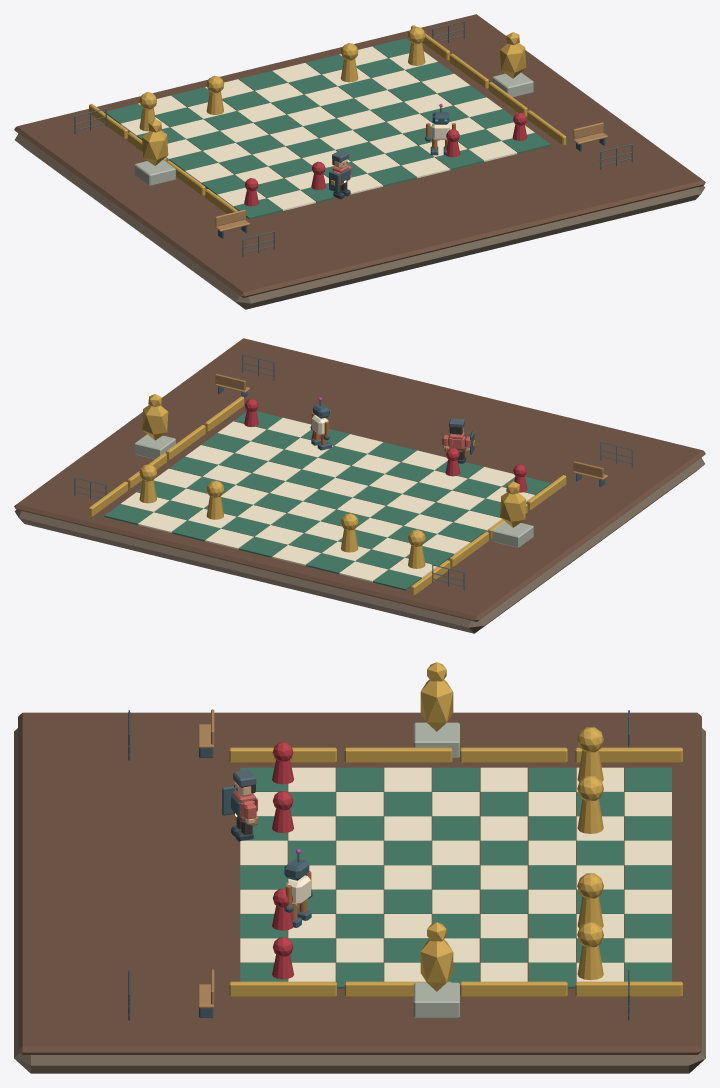
Rendered from world-boardgame.glb.
The picture shows the model from 3 angles, top to bottom: view 1: azimuth 30°, elevation 25°; view 2: azimuth 150°, elevation 25°; view 3: azimuth 270°, elevation 25°; orthographic projection. The views are drawn at different scales.
Visible parts, largest first — view 1: terrain-top, terrain-stratum, plinth.001, sculpture.002, sculpture.001, plinth.002, board-square.036, board-square.045, board-square.063, board-square.009, board-square.003, board-square.004 (+58 smaller); view 2: terrain-top, terrain-stratum, plinth.001, sculpture.001, sculpture.002, plinth.002, board-square.008, board-square.017, board-square.026, board-square.044, board-square.080, board-square.035 (+62 smaller); view 3: terrain-top, terrain-stratum, board-rim.002, board-rim.001, board-rim.004, board-rim.005, board-rim.007, plinth.002, board-rim, board-rim.006, sculpture.001, sculpture.002 (+79 smaller).
Boxes of the visible parts, x1=… form: terrain-top: x1=14, y1=14, x2=705, y2=297; terrain-stratum: x1=15, y1=133, x2=705, y2=309; plinth.001: x1=134, y1=160, x2=175, y2=185; sculpture.002: x1=500, y1=43, x2=526, y2=78; sculpture.001: x1=142, y1=130, x2=168, y2=165; plinth.002: x1=492, y1=72, x2=533, y2=97; board-square.036: x1=368, y1=165, x2=416, y2=186; board-square.045: x1=401, y1=157, x2=450, y2=178; board-square.063: x1=468, y1=141, x2=517, y2=161; board-square.009: x1=267, y1=190, x2=315, y2=210; board-square.003: x1=185, y1=163, x2=233, y2=183; board-square.004: x1=169, y1=151, x2=217, y2=171; terrain-top: x1=14, y1=338, x2=705, y2=621; terrain-stratum: x1=14, y1=457, x2=704, y2=633; plinth.001: x1=492, y1=521, x2=533, y2=547; sculpture.001: x1=500, y1=492, x2=526, y2=527; sculpture.002: x1=142, y1=405, x2=168, y2=440; plinth.002: x1=134, y1=434, x2=175, y2=459; board-square.008: x1=373, y1=569, x2=421, y2=590; board-square.017: x1=339, y1=561, x2=388, y2=582; board-square.026: x1=305, y1=553, x2=354, y2=574; board-square.044: x1=238, y1=537, x2=287, y2=557; board-square.080: x1=104, y1=504, x2=153, y2=524; board-square.035: x1=272, y1=545, x2=320, y2=565; terrain-top: x1=18, y1=712, x2=701, y2=1054; terrain-stratum: x1=14, y1=728, x2=705, y2=1073; board-rim.002: x1=344, y1=747, x2=452, y2=762; board-rim.001: x1=229, y1=981, x2=336, y2=996; board-rim.004: x1=460, y1=747, x2=567, y2=762; board-rim.005: x1=460, y1=981, x2=567, y2=996; board-rim.007: x1=575, y1=981, x2=682, y2=996; plinth.002: x1=413, y1=982, x2=459, y2=1018; board-rim: x1=229, y1=747, x2=336, y2=762; board-rim.006: x1=575, y1=747, x2=682, y2=762; sculpture.001: x1=420, y1=679, x2=453, y2=731; sculpture.002: x1=420, y1=939, x2=453, y2=991.
Size of the model in its own units: 21 by 3.39 by 18.
